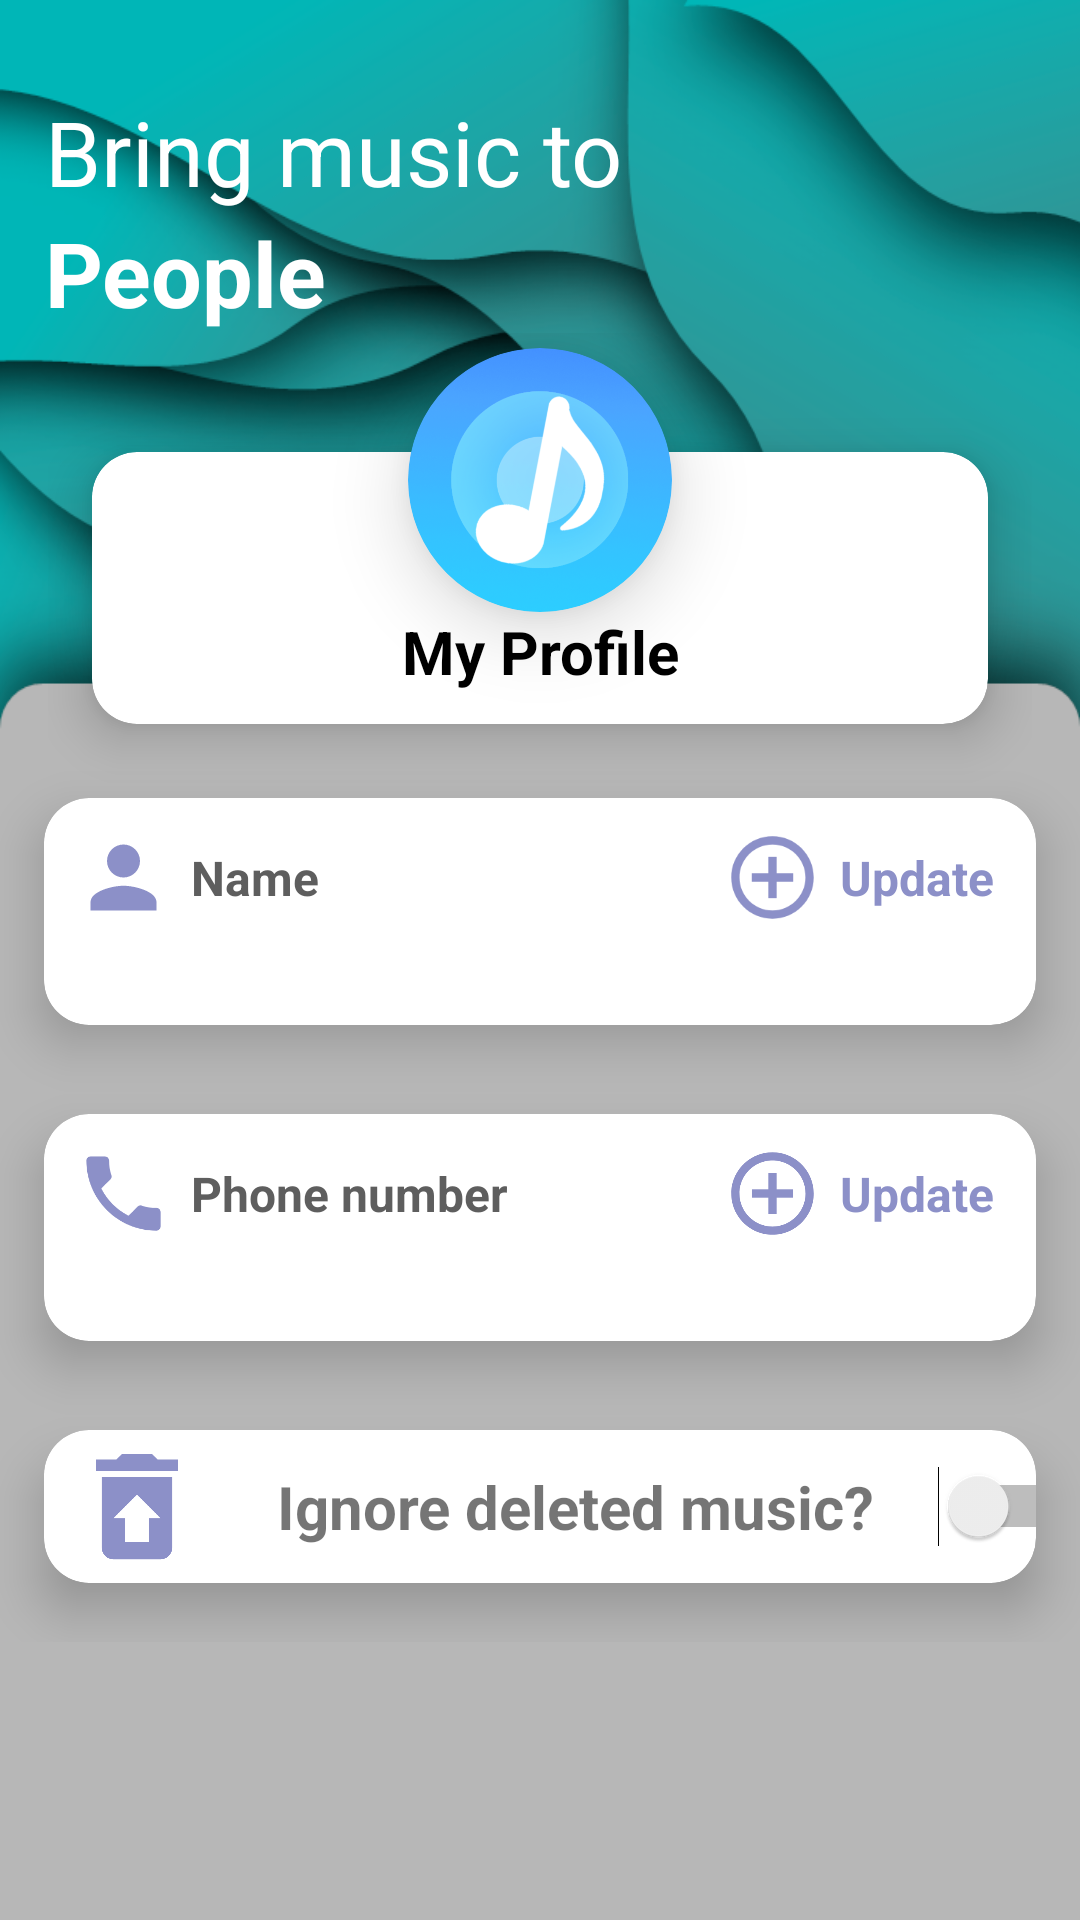

Icons on this 1080px×1920px Android screen, each with the point to tap as (x,y):
add: (772,877), (772,1193)
person: (123,877)
restore delete: (137,1506)
